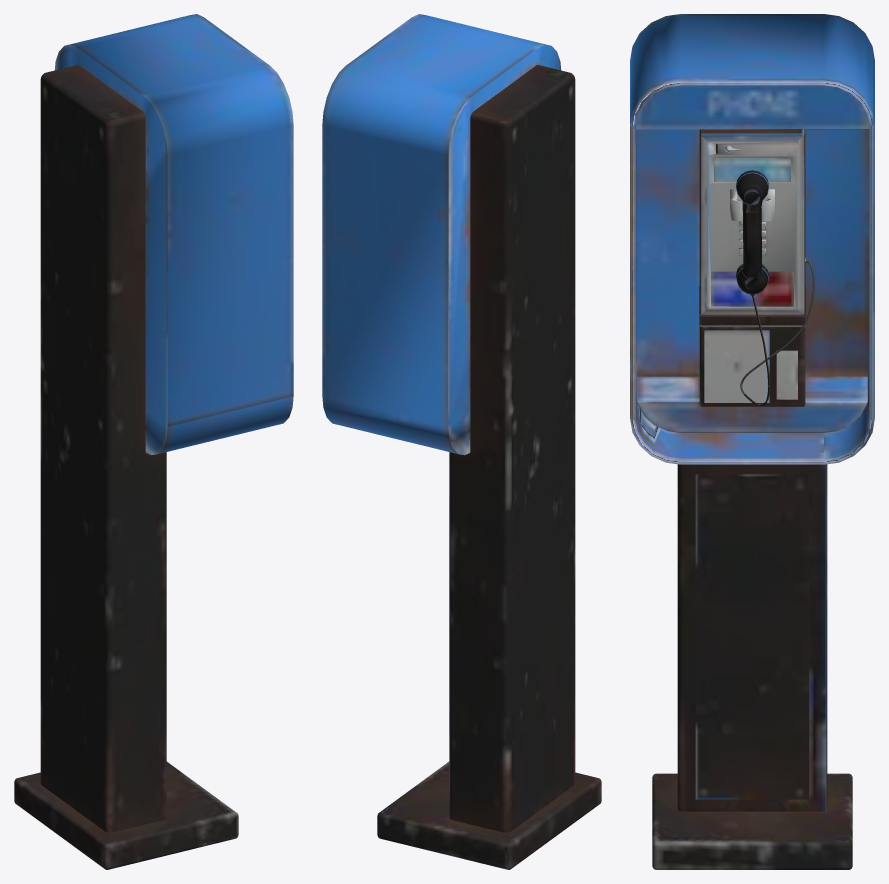
The model's file is Payphone.glb.
The picture shows the model from 3 angles, left to right: view 1: azimuth 30°, elevation 25°; view 2: azimuth 150°, elevation 25°; view 3: azimuth 270°, elevation 25°; orthographic projection. The views are drawn at different scales.
Visible parts, largest first — view 1: Sweep; view 2: Sweep; view 3: Sweep.
Boxes of the visible parts, x1,y1,x2,y2 form: Sweep: [14, 14, 293, 869]; Sweep: [322, 14, 601, 869]; Sweep: [630, 14, 874, 869].
Bounding box in the file's own units: 0.3862 × 1.56 × 0.4262.
Materials: 1 (1 with a texture image).
